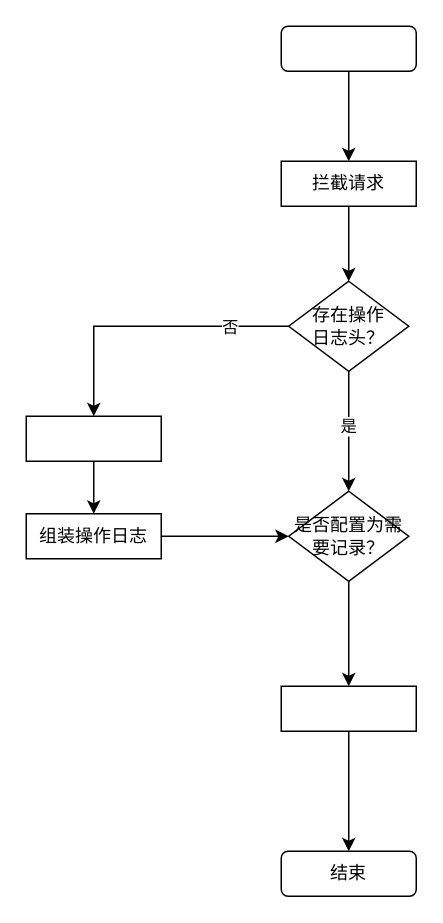
Some shapes in this 443 by 923 pixel diagram are drawn without their labels. The shapes that lost their labels are listed below. From the top down, each one's box as (x1, y1, x2, y2) in pixels, then its label:
(280, 25, 416, 71): 开始
(25, 415, 161, 461): 进入业务系统
(280, 685, 416, 731): 记录操作日志
